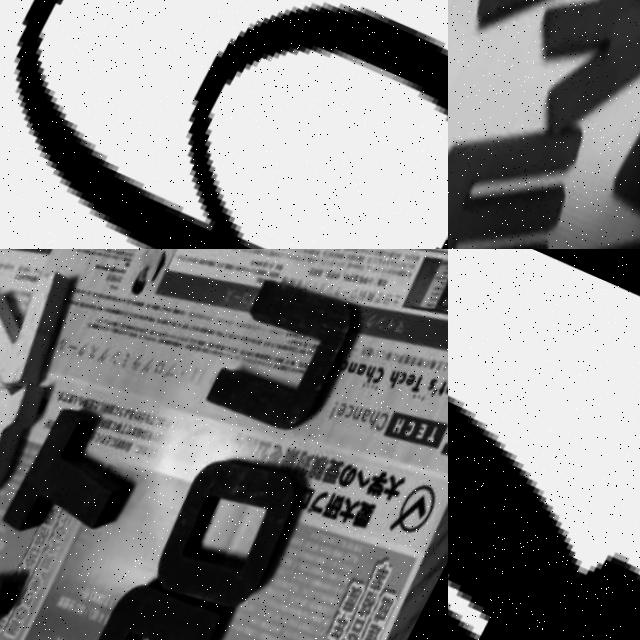6: (0, 0, 448, 249)
A: (84, 570, 245, 640)
D: (456, 0, 640, 52)
K: (523, 0, 640, 132)
M: (448, 79, 620, 249)
O: (152, 439, 326, 623)
Q: (448, 302, 640, 640), (0, 361, 59, 529)
T: (0, 397, 165, 564)
U: (183, 259, 387, 464)
Z: (0, 249, 104, 418)
